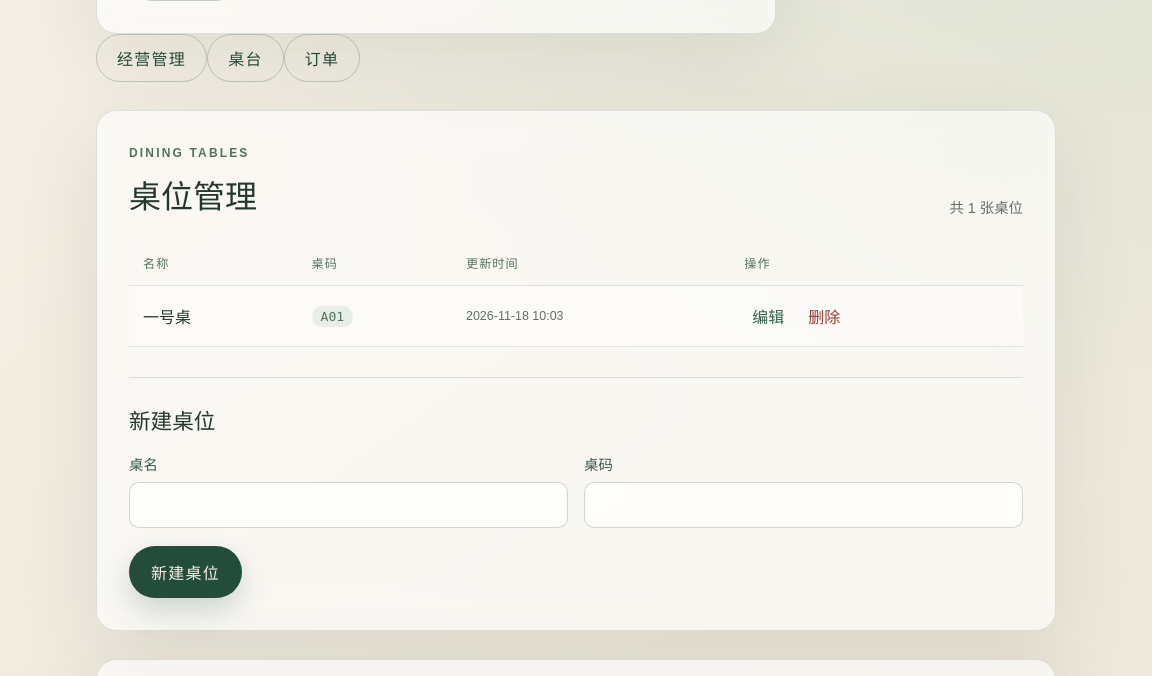
Scenario: dining table management for signed-in staff › edits and deletes an existing table without converting its id to a number
(page scrolled)
Check: the text "一号桌" is shown, box [129,286,298,346]
Click the button "编辑" at {"x": 768, "y": 316}, box [744,299,792,333]
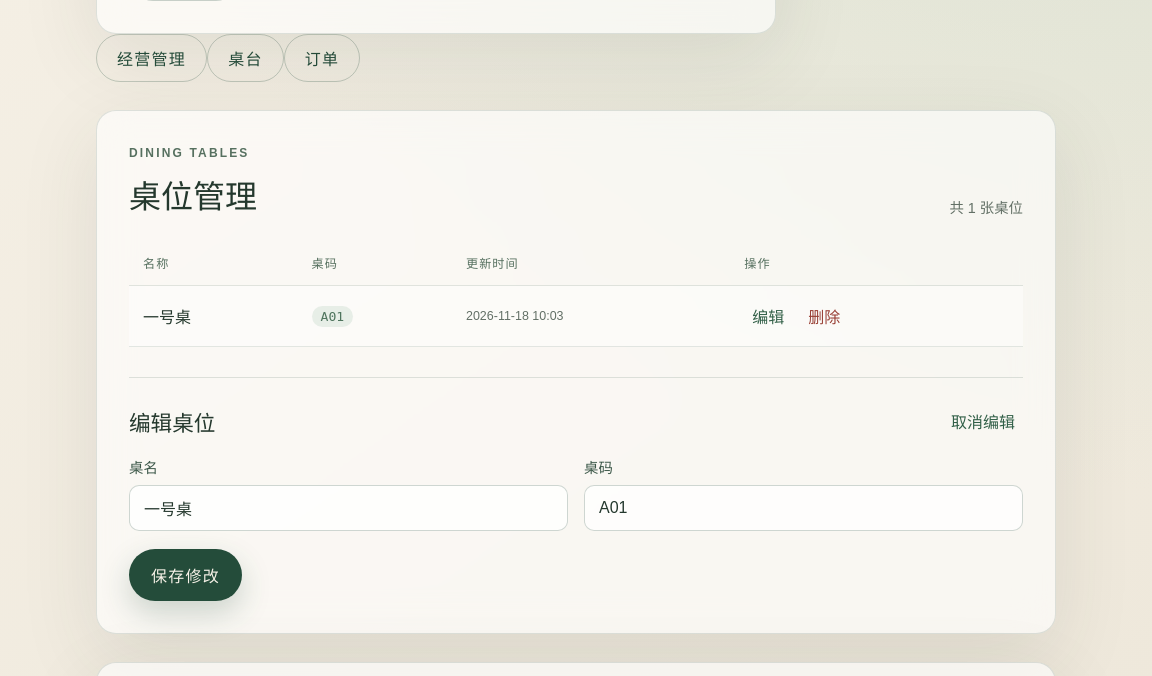
Check: the field labelled "桌名" holds "一号桌"
Check: the field labelled "桌码" holds "A01", box [584,485,1023,531]
Replace the text in the field labelled "桌名" with "  新一号桌  " at {"x": 348, "y": 508}, box [129,485,568,531]
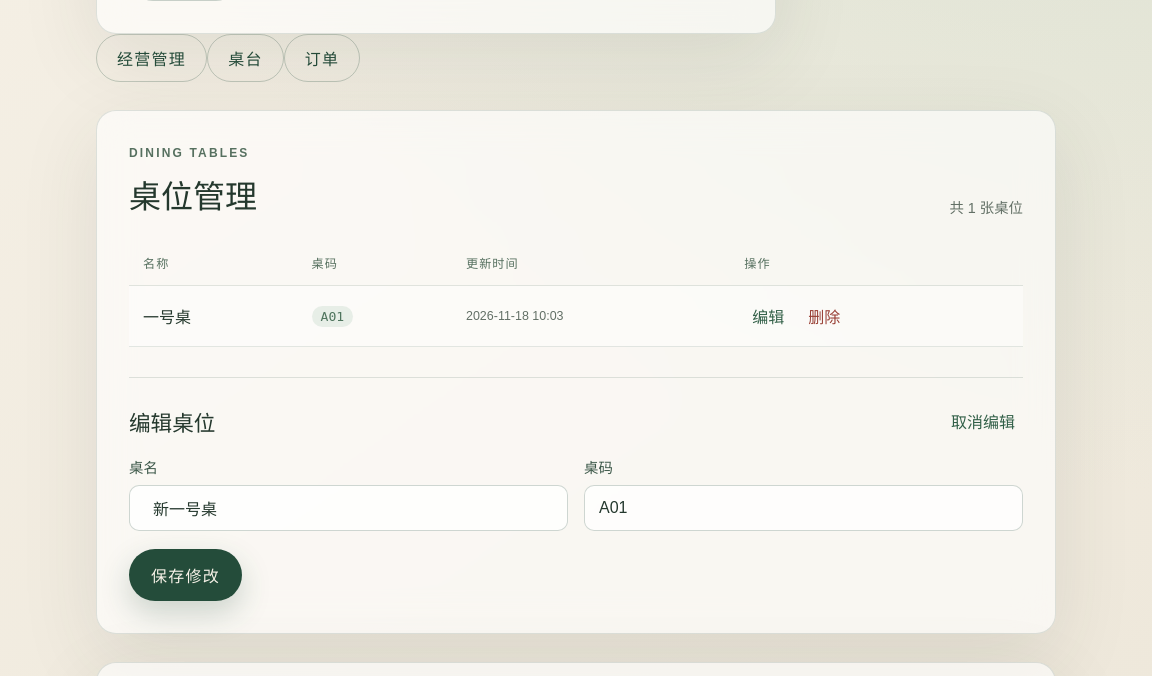
Replace the text in the field labelled "桌码" with "  A02  " at {"x": 804, "y": 508}, box [584,485,1023,531]
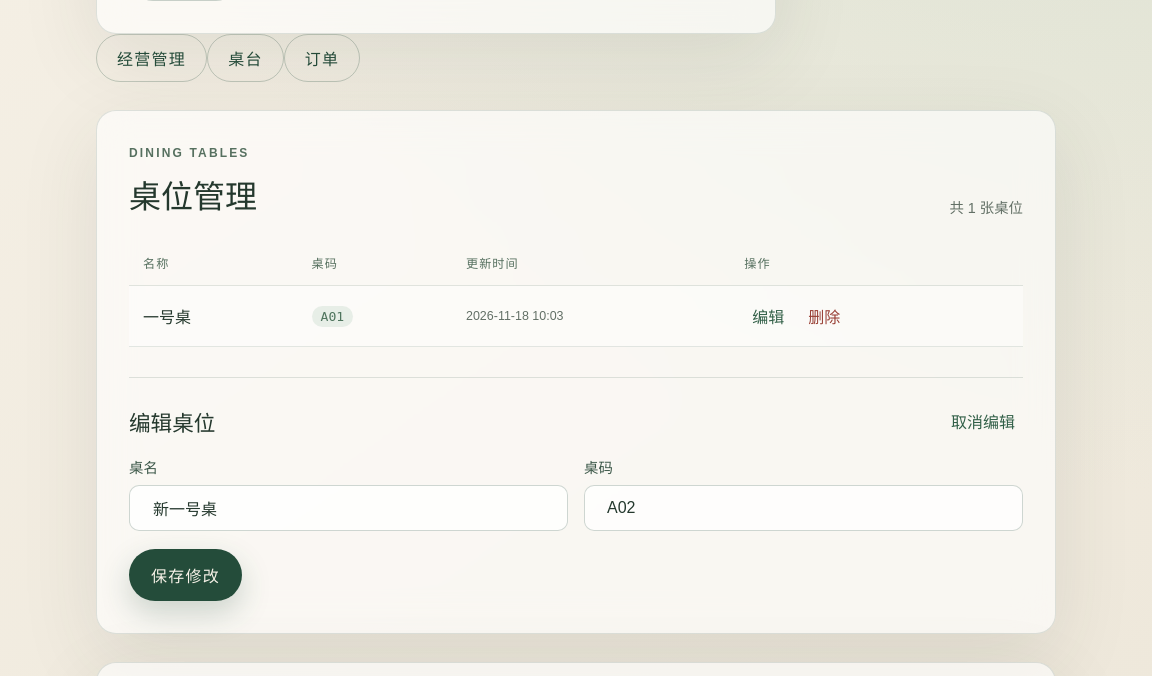
Click the button "保存修改" at {"x": 186, "y": 575}, box [129,549,242,601]
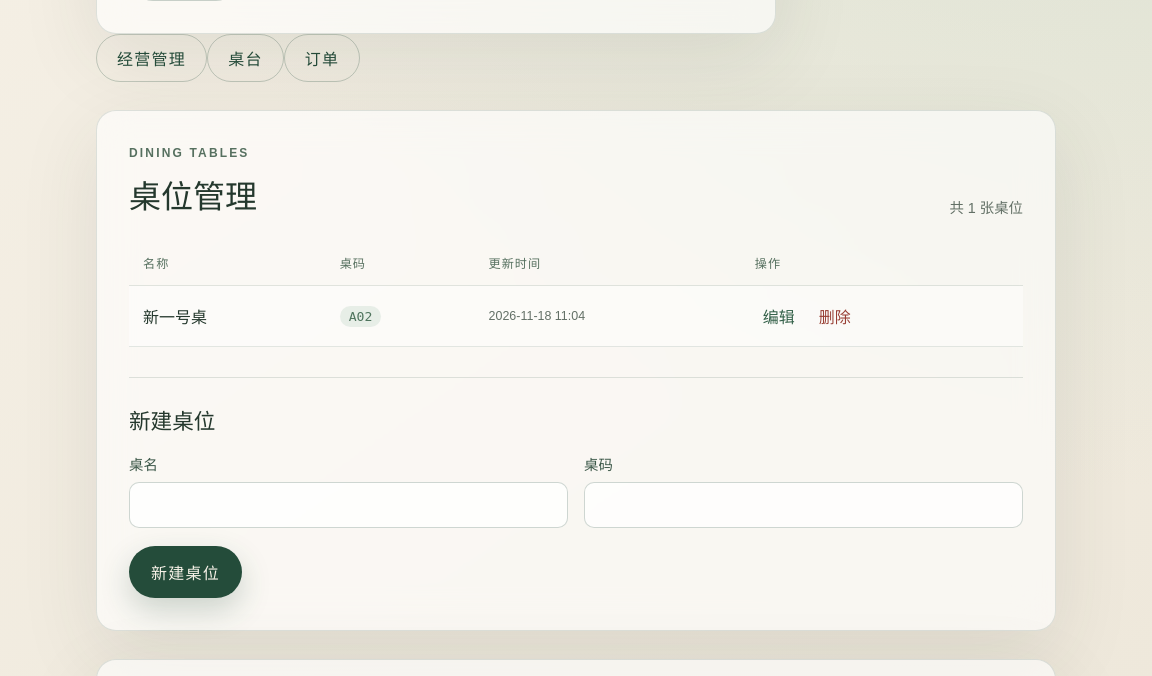
Check: the text "新一号桌" is shown, box [129,286,326,346]
Check: the text "A02" is shown, box [340,306,381,326]
Click the button with aria-label "删除 新一号桌" at {"x": 835, "y": 316}, box [811,299,859,333]
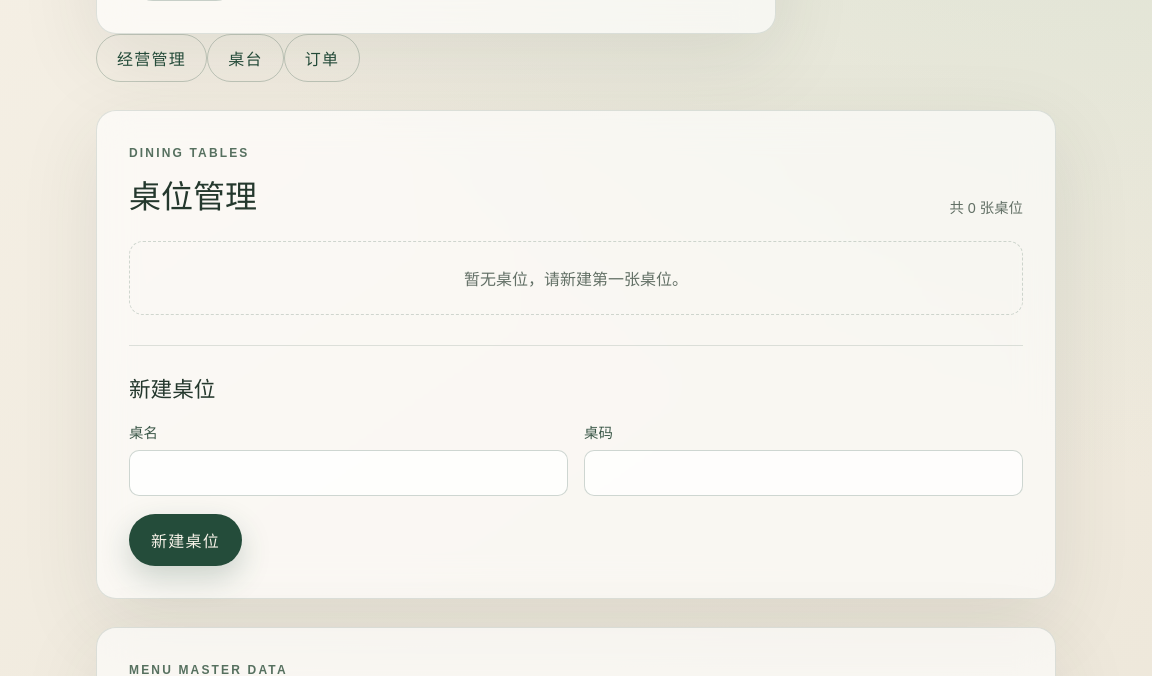
Check: the text "暂无桌位，请新建第一张桌位。" is shown, box [129,241,1023,315]
Check: the text "新一号桌" is gone
